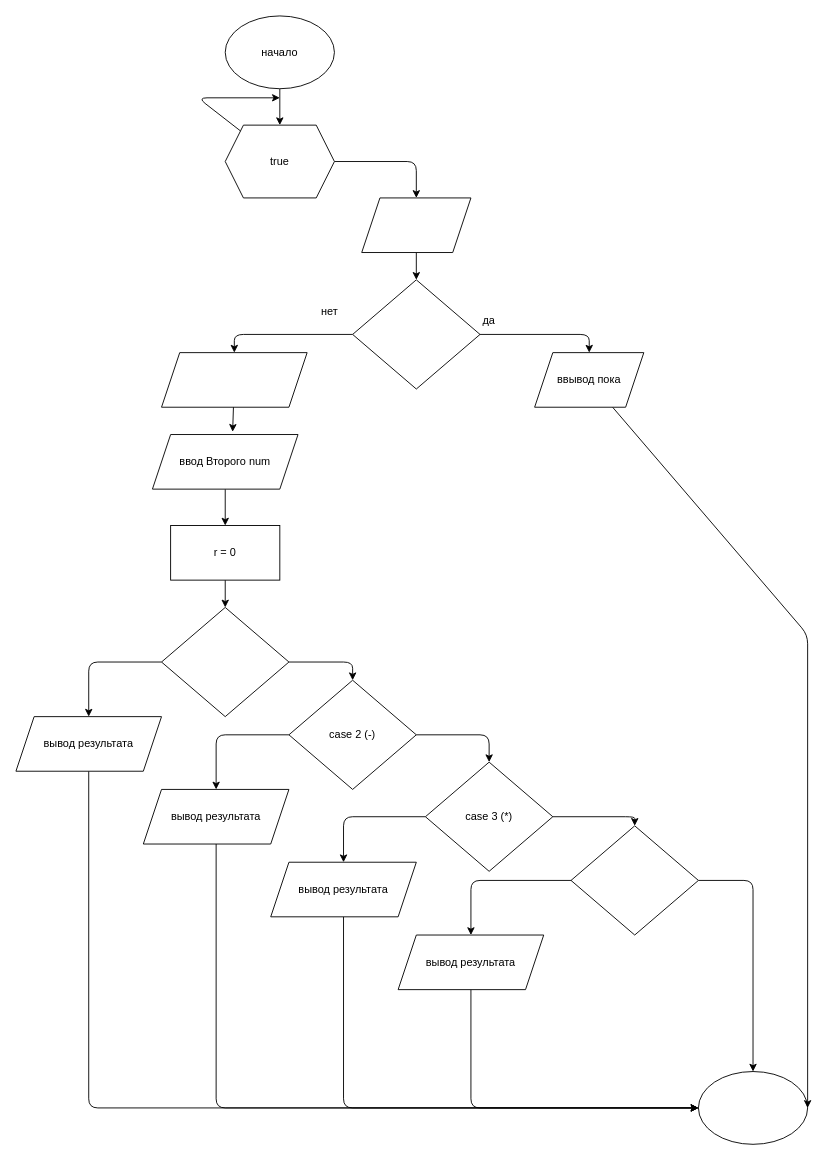
The diagram is 831 pixels wide and 1160 high, and some of its shapes have lost their labels. Each missing label, with the centre of its shape:
case 1 (+): the point at 225,662
case 4 (/): the point at 634,880
num == 5: the point at 416,334
ввод num: the point at 416,225
ввод первого num: the point at 234,379
конец: the point at 753,1107
